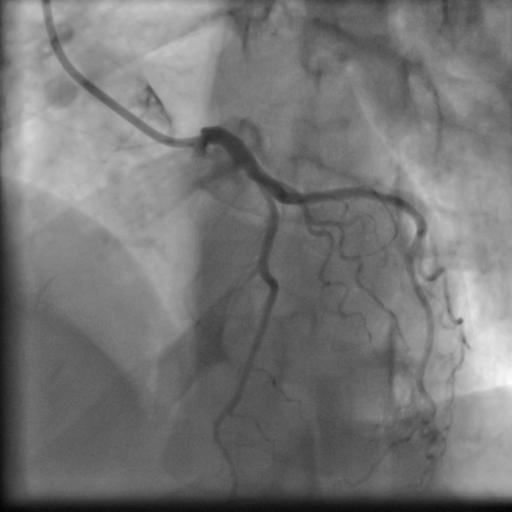Stenosis: (255, 181, 276, 214)
